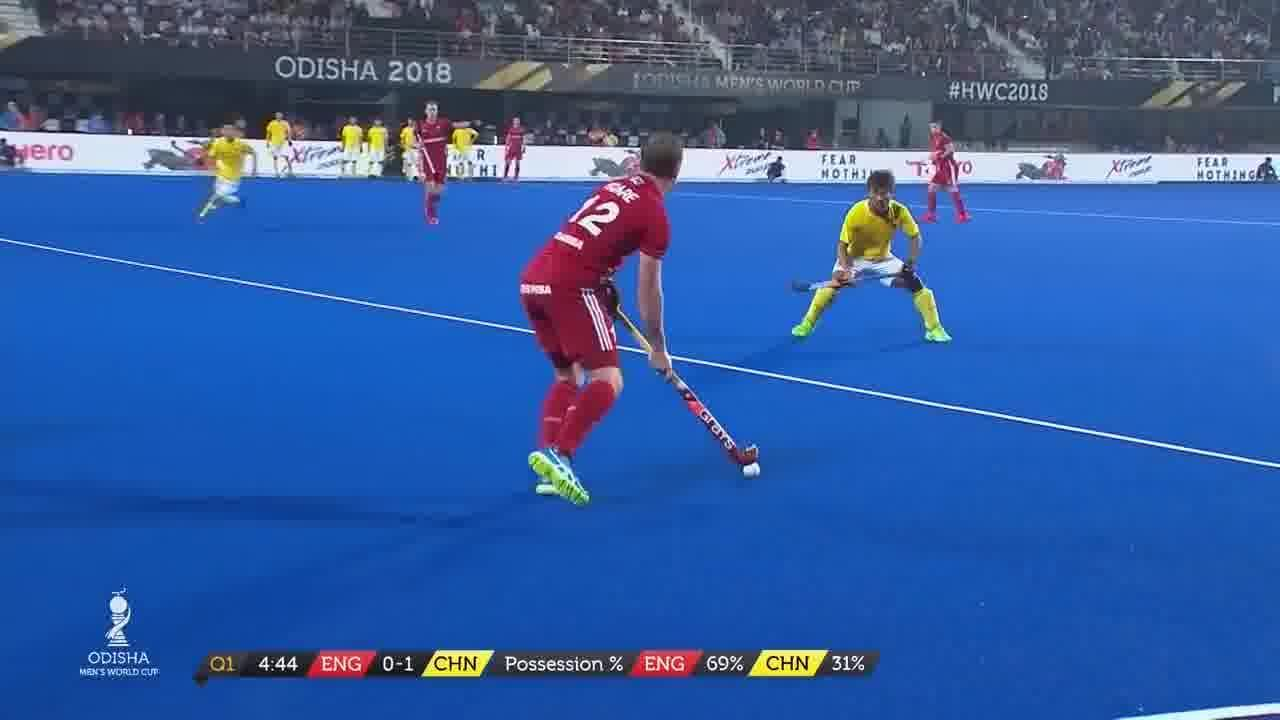ball: (732, 443, 770, 489)
